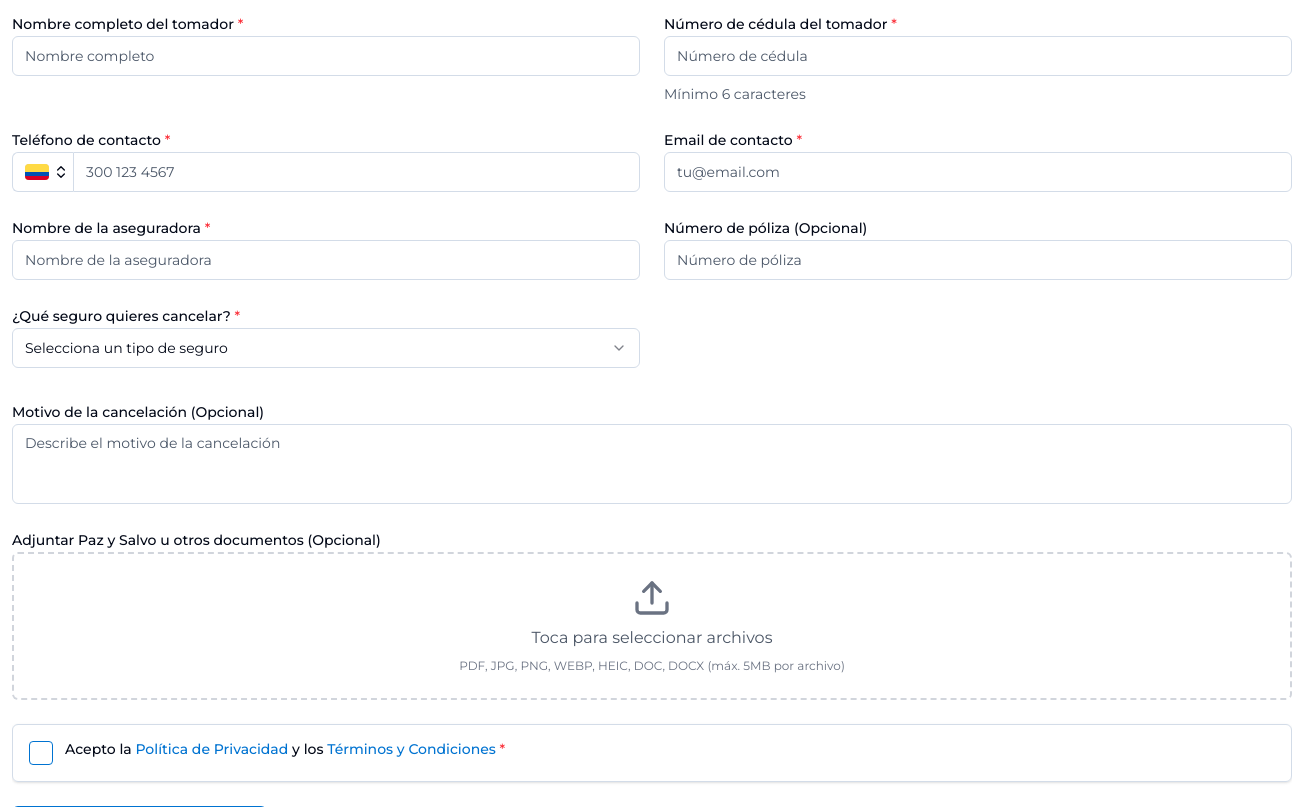
CancellationForm › Form Validation › does not validate a field when the user leaves it
The image size is (1304, 807).
Click the field labelled "Nombre completo del tomador *".
click(326, 56)  # box [12,36,640,76]
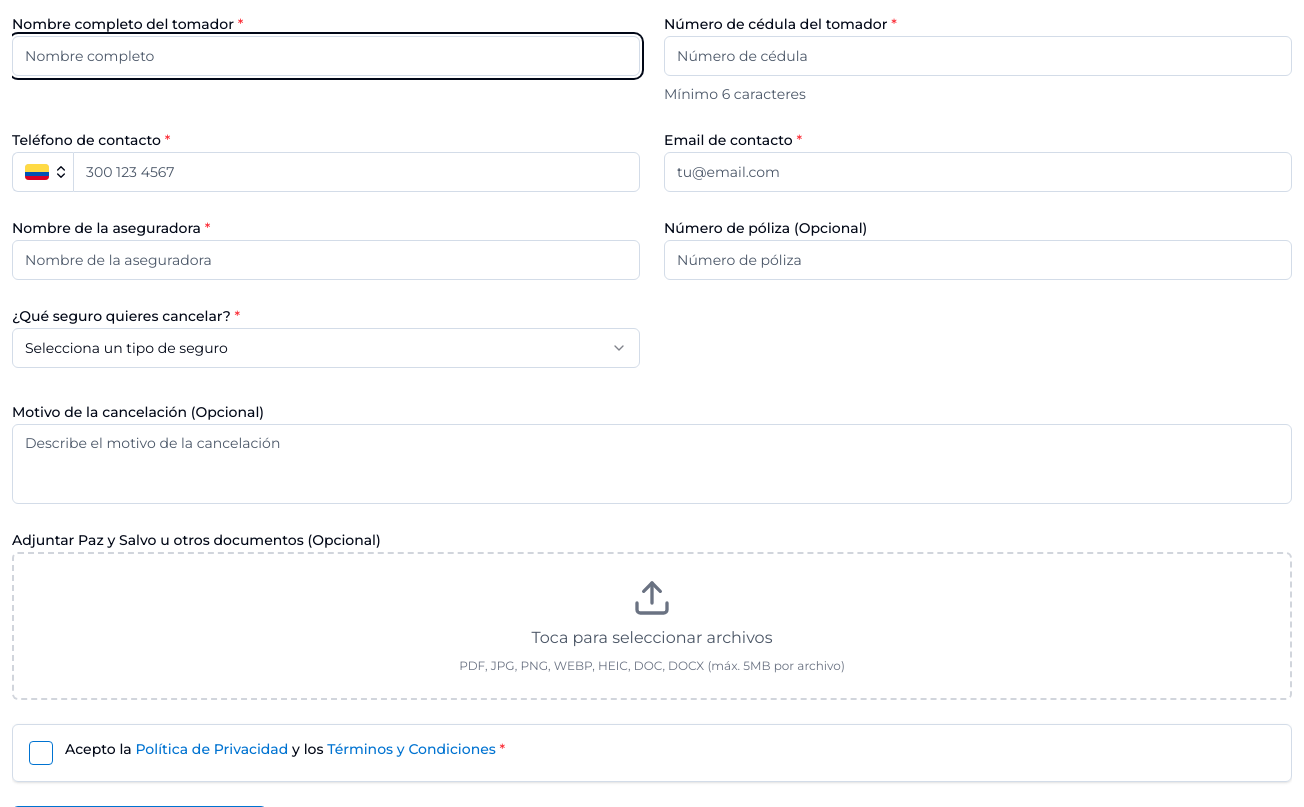
Press Tab
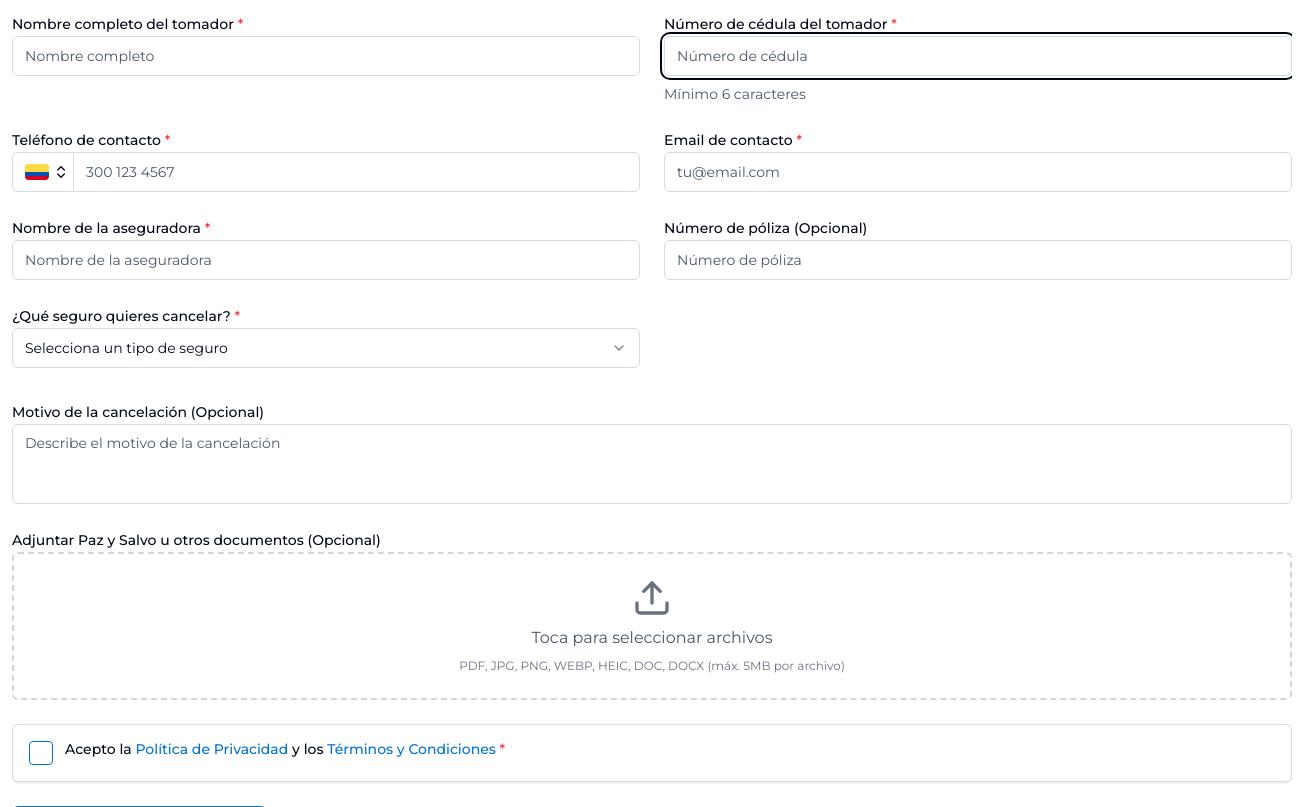
Click the field labelled "Email de contacto *".
click(978, 172)  # box [664,152,1292,192]
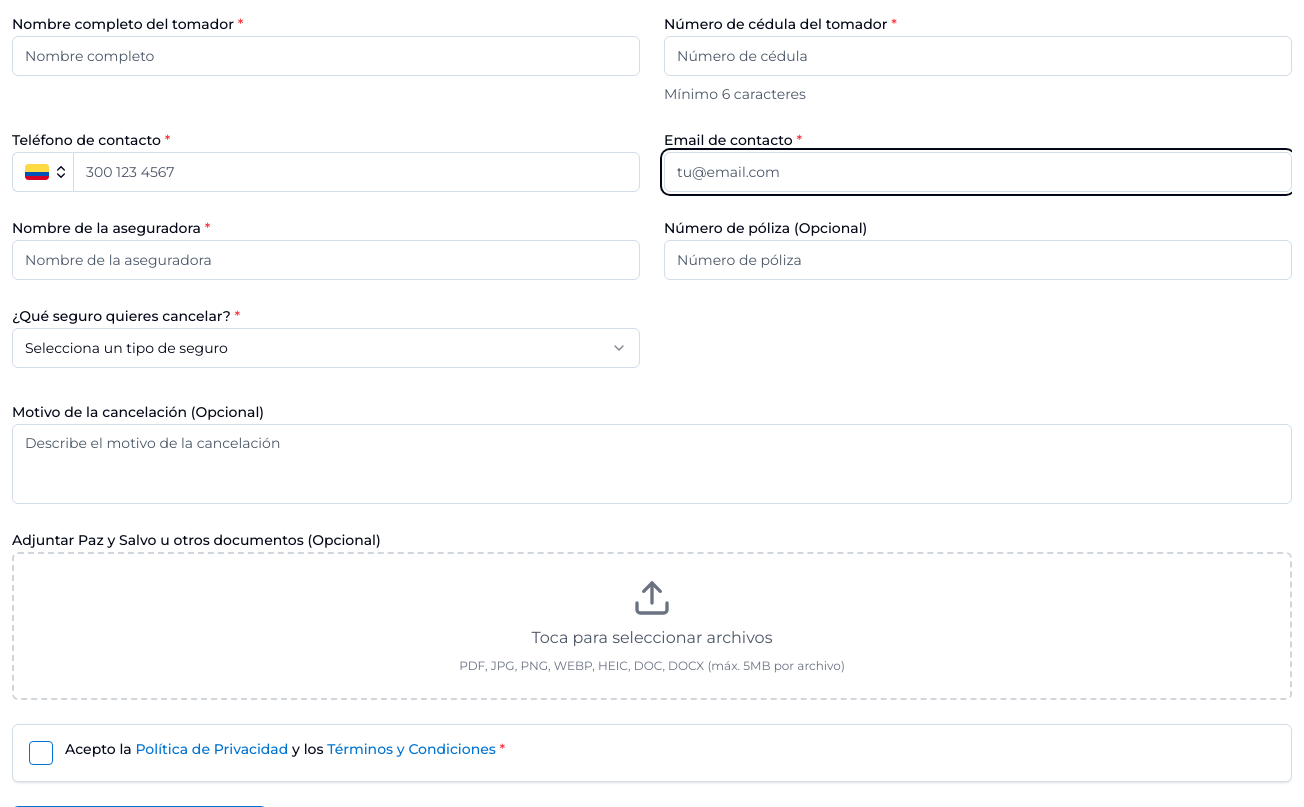
Type keys "maria@example"
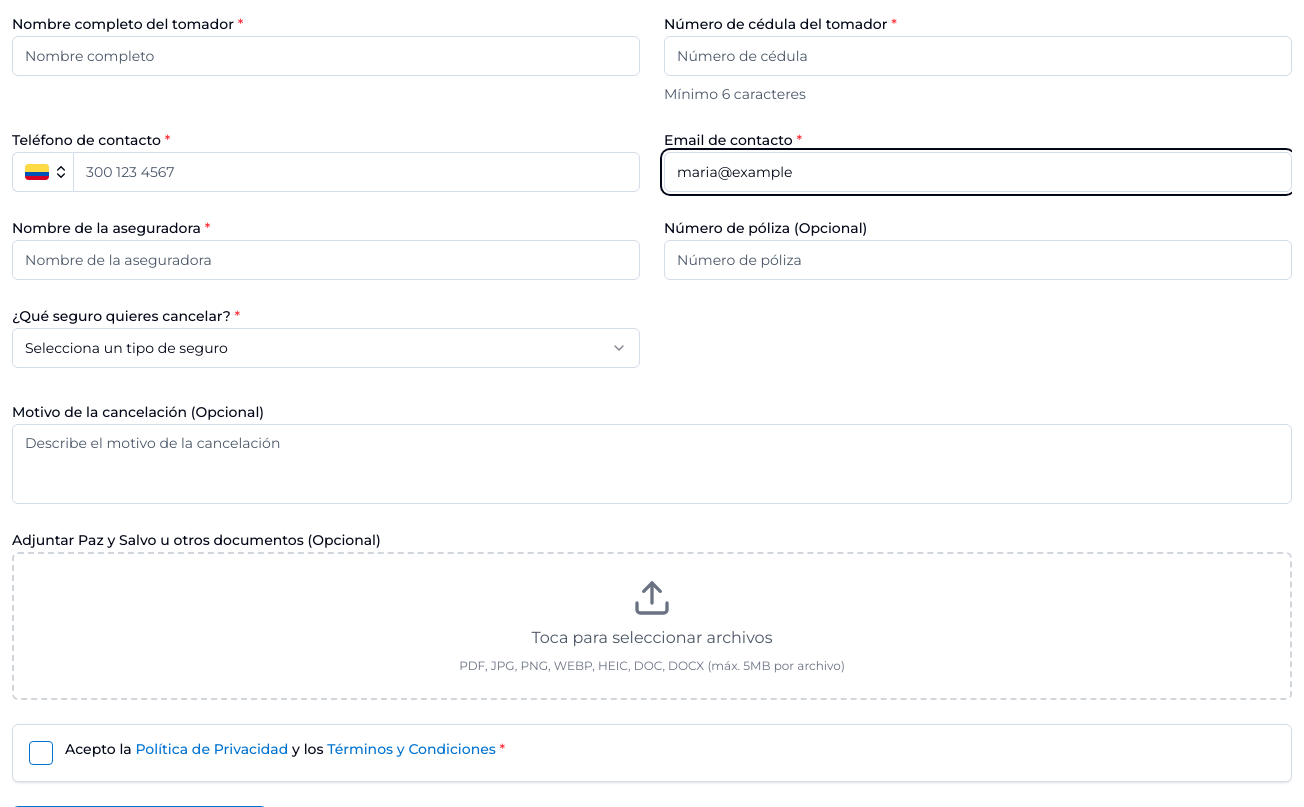
Press Tab
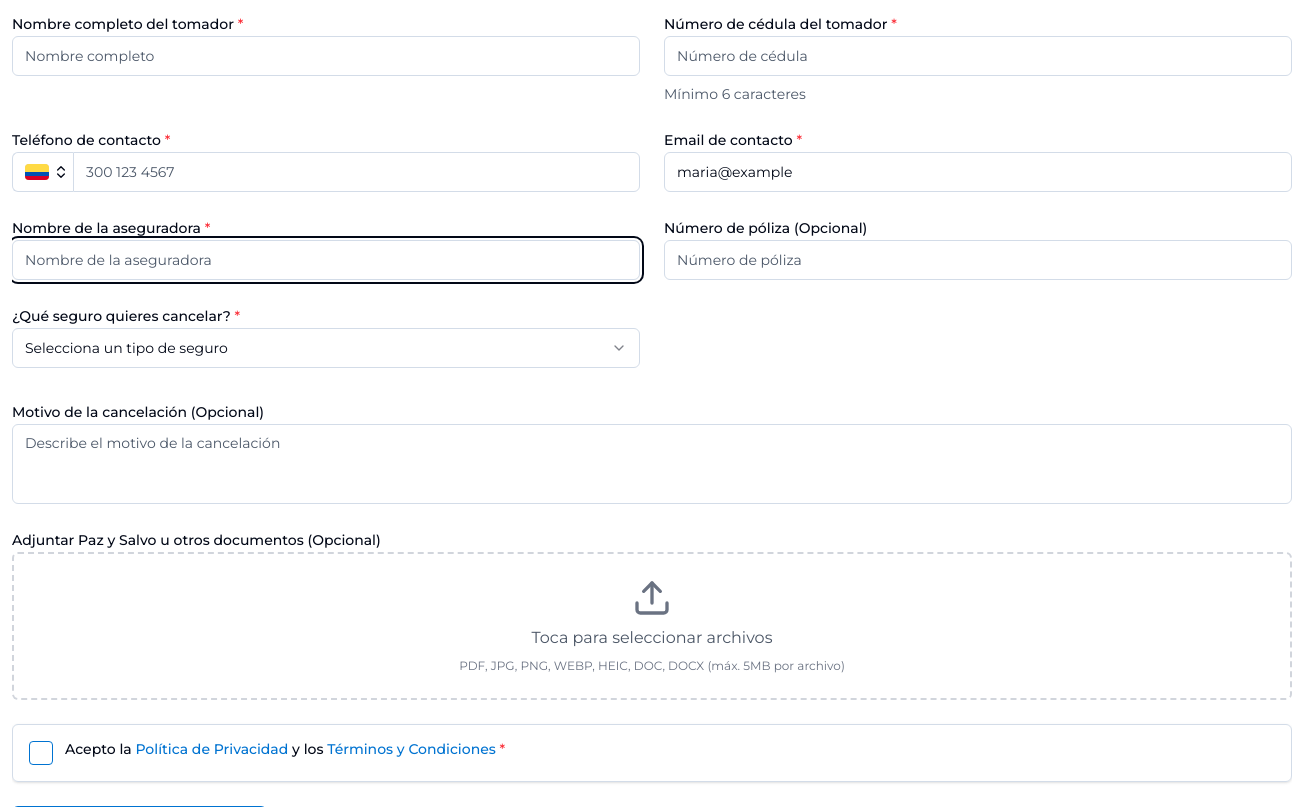
Note: Gives a blur validation time to show up before checking it didn't
Type keys "Test Insurance"
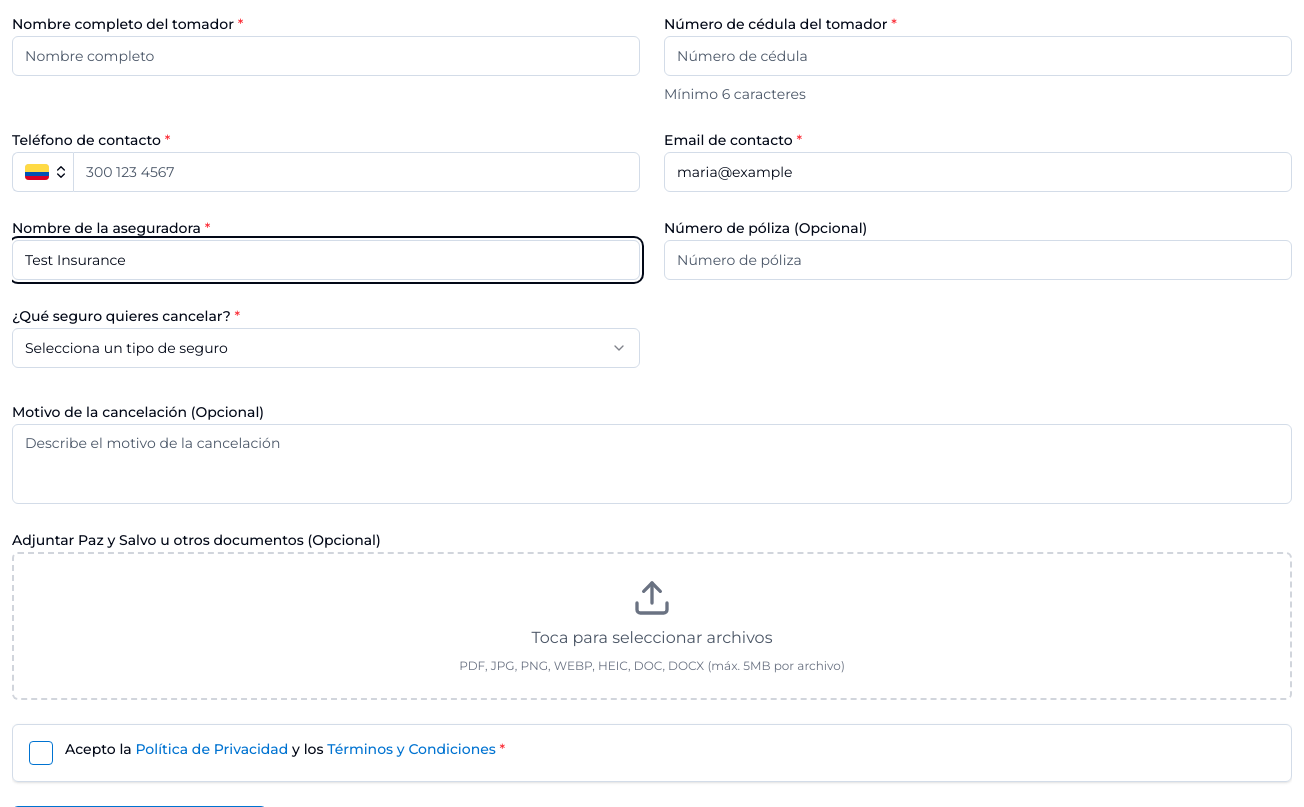
Expected: the field labelled "Nombre de la aseguradora *" holds "Test Insurance", [12,240,640,280]
